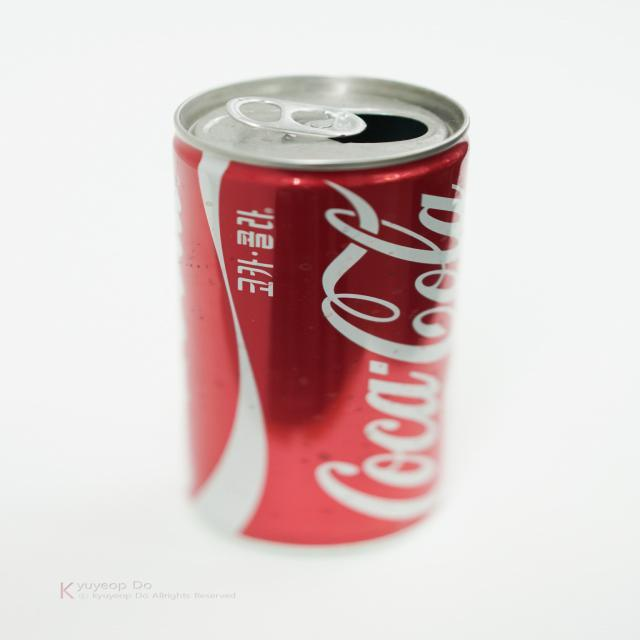coca-cola: (163, 73, 473, 561)
